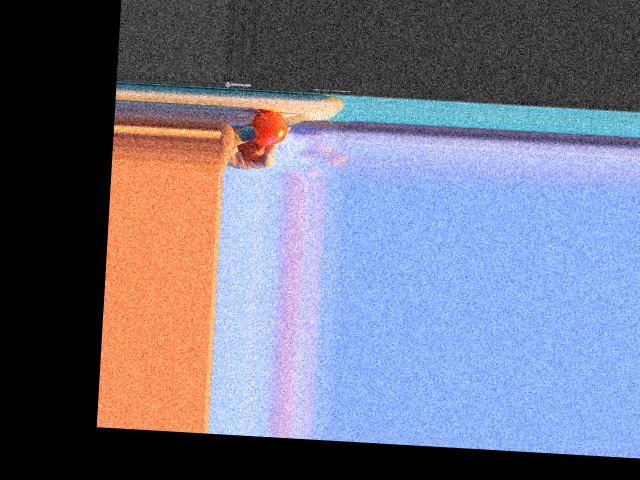tomato: (250, 109, 289, 146)
